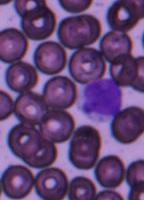L: (79, 77, 123, 121)
